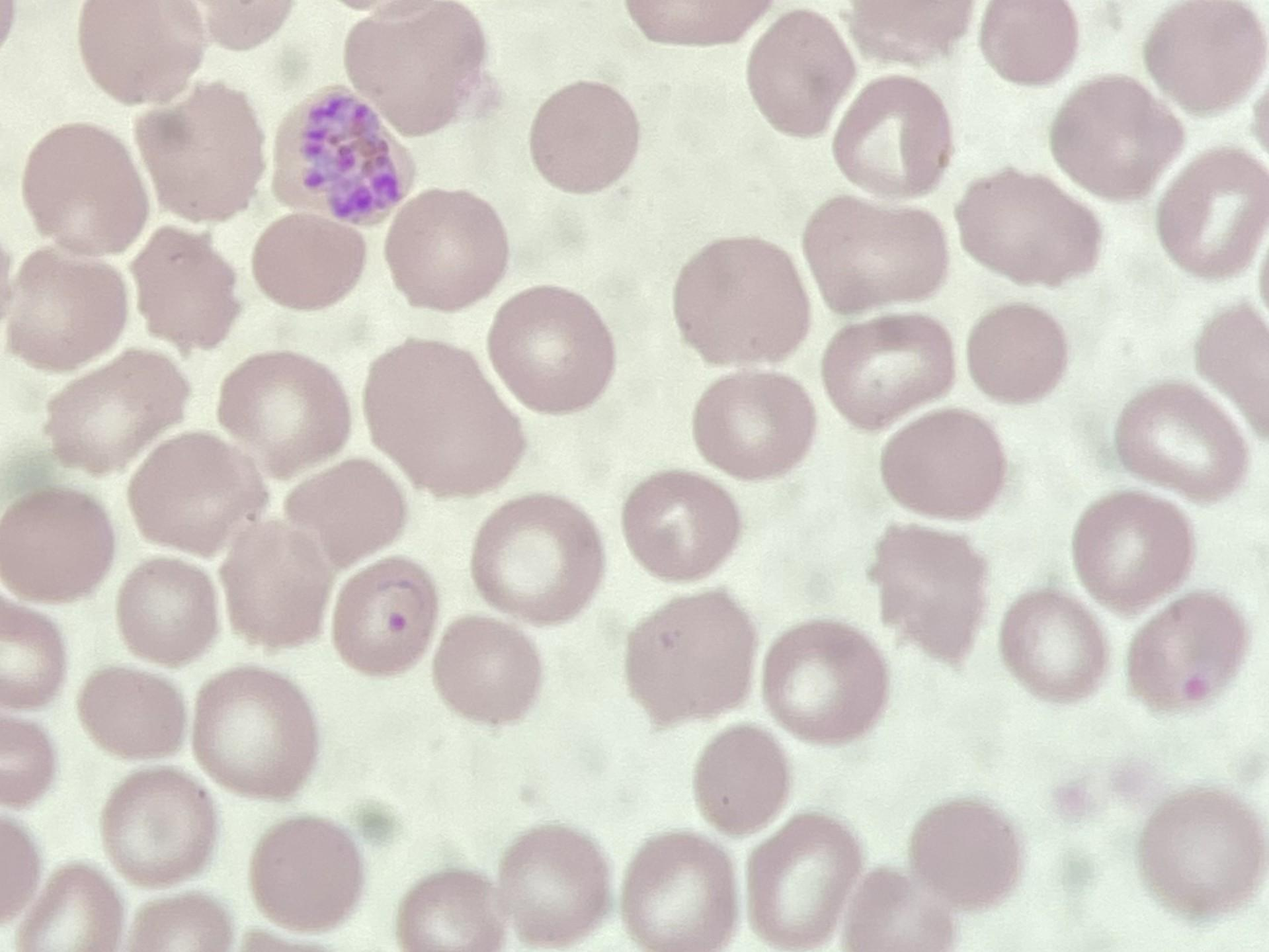Infected: (271, 89, 417, 235)
Uninfected: (362, 338, 519, 497), (1045, 71, 1192, 204), (672, 234, 808, 373), (800, 190, 945, 319), (1137, 786, 1269, 926), (344, 3, 479, 136), (132, 80, 260, 220), (624, 587, 749, 729), (476, 490, 605, 627), (44, 349, 179, 477), (128, 431, 267, 554), (957, 168, 1099, 288), (741, 806, 860, 948), (1115, 371, 1243, 502), (20, 126, 147, 258), (760, 618, 889, 747), (485, 283, 608, 416), (1120, 590, 1246, 719), (873, 526, 985, 670), (1073, 490, 1195, 620), (824, 312, 958, 430), (223, 354, 345, 482), (201, 669, 316, 804), (1159, 137, 1267, 273), (128, 223, 237, 354), (388, 190, 506, 311), (97, 773, 220, 889), (7, 248, 126, 367), (829, 80, 952, 195), (331, 550, 439, 680), (1144, 0, 1267, 114), (225, 508, 325, 644), (749, 12, 854, 139), (622, 470, 739, 582), (886, 404, 998, 519), (626, 834, 735, 952), (251, 817, 357, 938), (908, 801, 1024, 911), (507, 823, 610, 945), (82, 1, 200, 107), (996, 590, 1102, 705), (694, 378, 816, 476), (2, 490, 109, 601), (291, 455, 392, 569), (529, 85, 636, 189), (75, 665, 188, 761), (692, 720, 785, 833), (253, 212, 363, 305), (117, 567, 219, 667), (965, 305, 1064, 407), (436, 623, 539, 720), (842, 859, 949, 952), (392, 865, 504, 952), (974, 3, 1076, 91)
